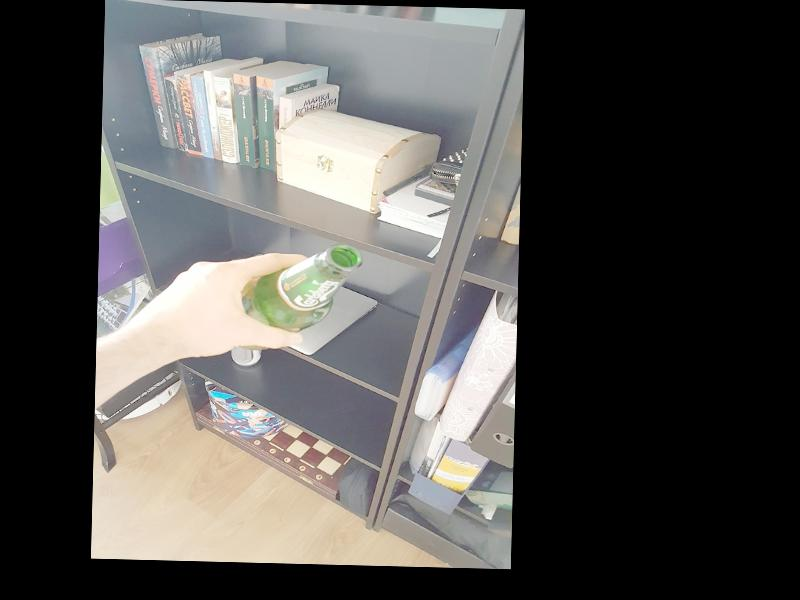Beer: (232, 242, 363, 353)
